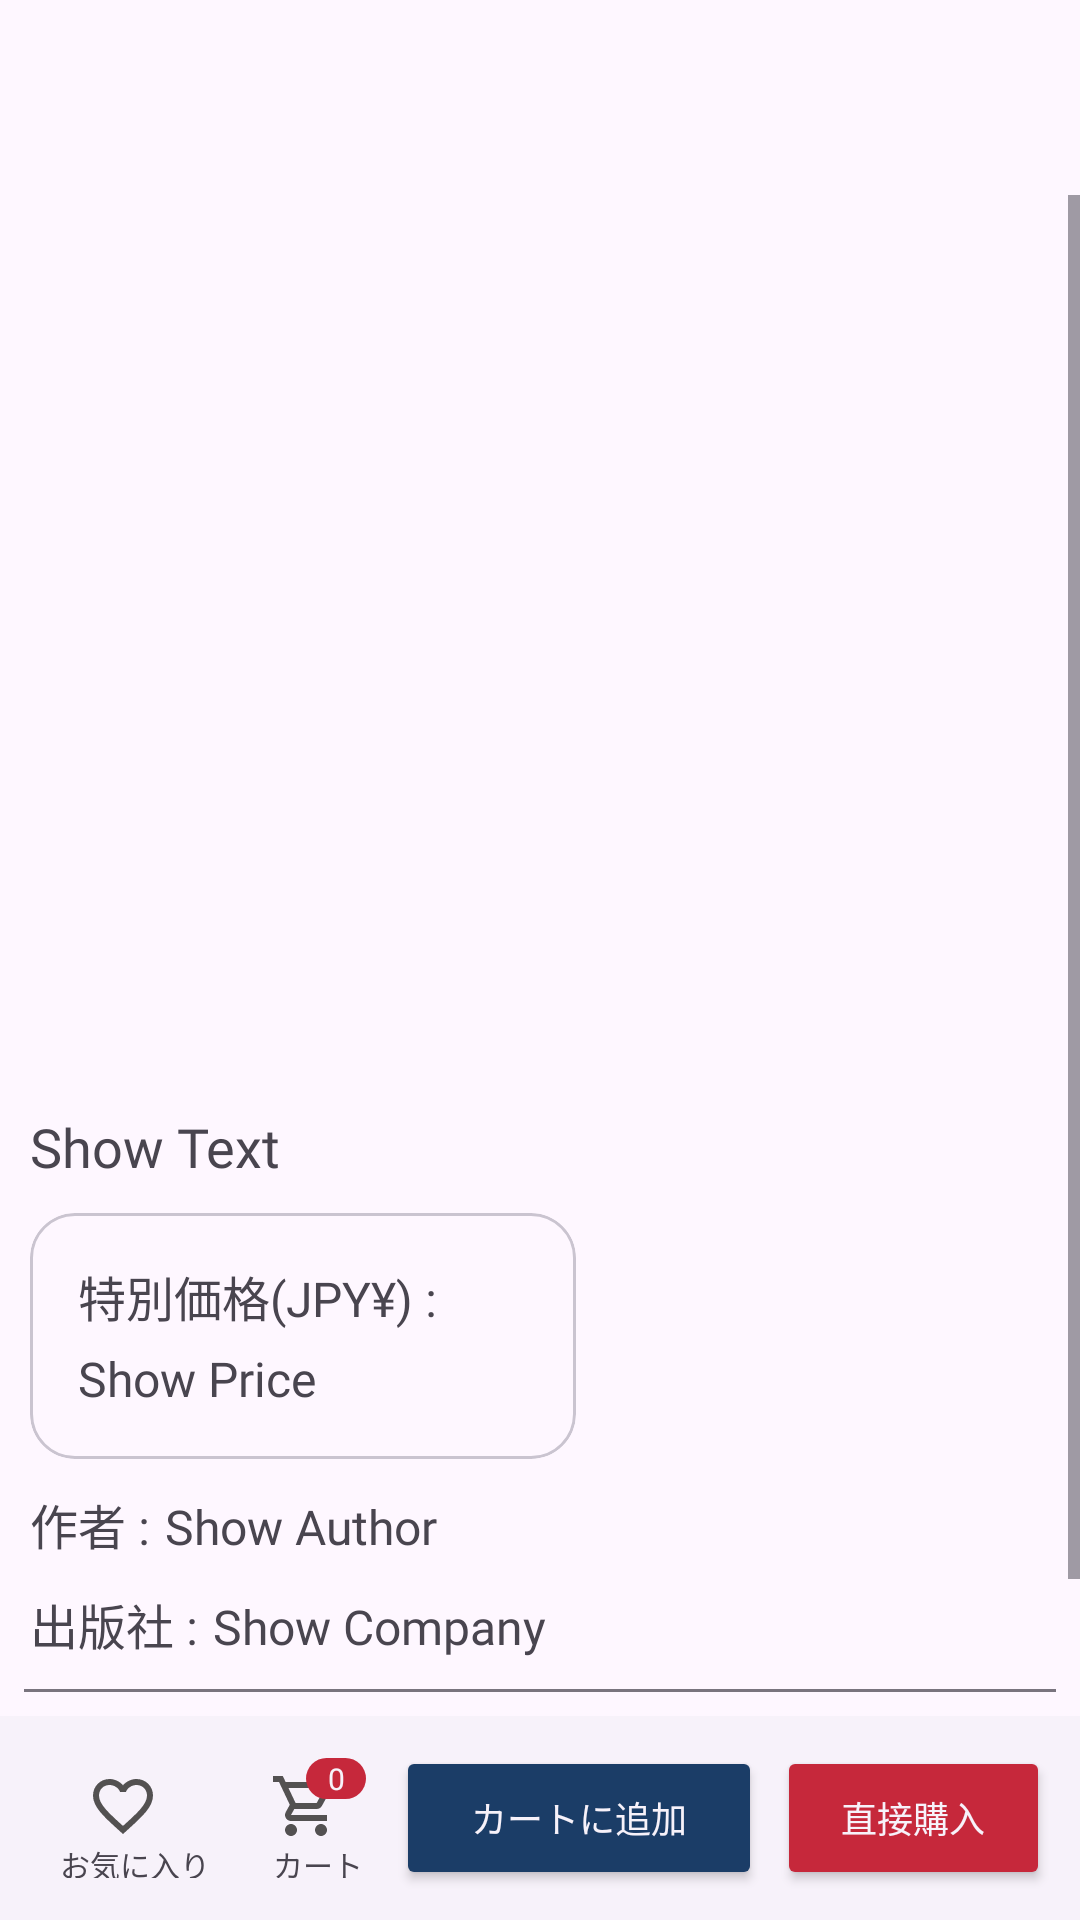

Where icons sit on this 1080 × 1920 app screen, as (x1, y1, x2, y2):
collection empty: (93, 1779, 153, 1834)
